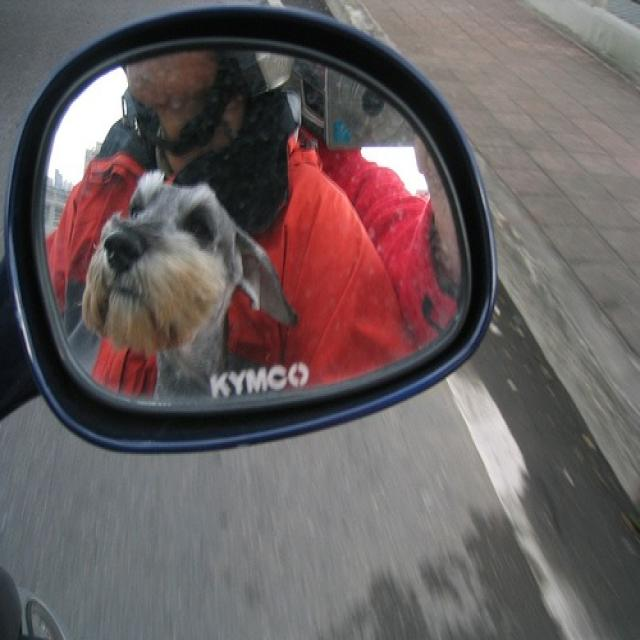dog: (74, 162, 292, 396)
